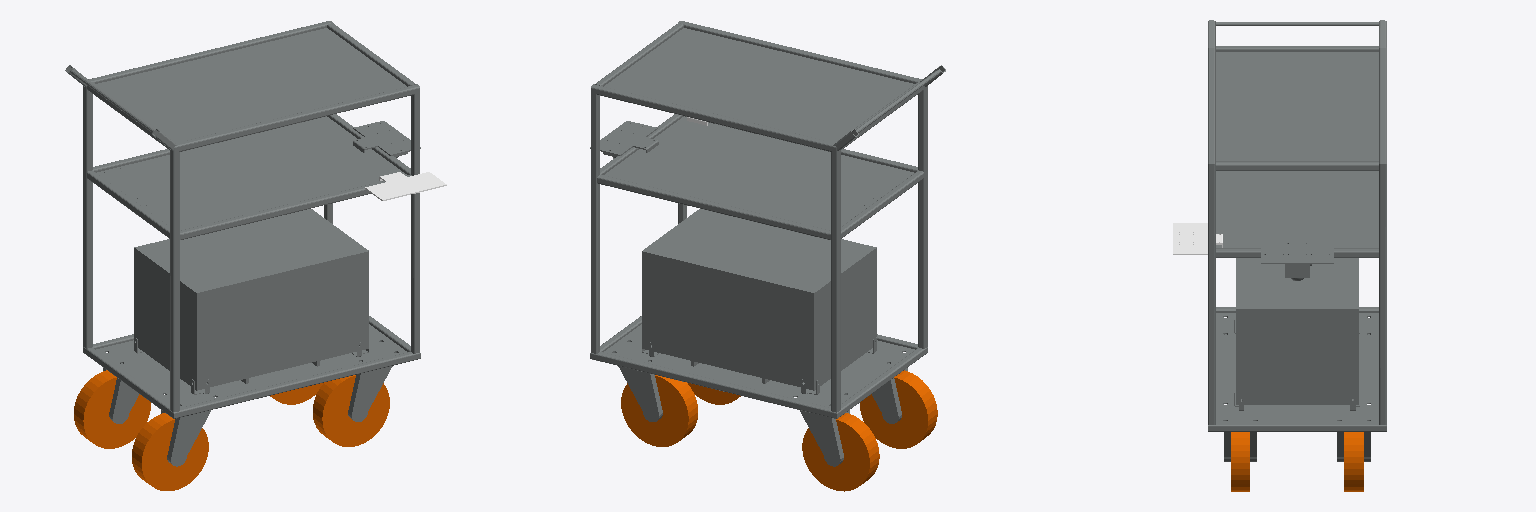
URDF robot description (kart_urdf):
<?xml version="1.0" encoding="utf-8"?>
<!-- This URDF was automatically created by SolidWorks to URDF Exporter! Originally created by [author] ([email redacted]) 
     Commit Version: 1.6.0-4-g7f85cfe  Build Version: 1.6.7995.38578
     For more information, please see http://wiki.ros.org/sw_urdf_exporter -->
<robot
  name="kart_urdf">
  <link
    name="base_link">
    <inertial>
      <origin
        xyz="-0.003553 -8.6975E-09 0.34226"
        rpy="0 0 0" />
      <mass
        value="29.552" />
      <inertia
        ixx="0.46707"
        ixy="-5.3125E-10"
        ixz="2.9316E-05"
        iyy="1.0457"
        iyz="-3.757E-09"
        izz="1.23" />
    </inertial>
    <visual>
      <origin
        xyz="0 0 0"
        rpy="0 0 0" />
      <geometry>
        <mesh
          filename="package://kart_urdf/meshes/base_link.STL" />
      </geometry>
      <material
        name="">
        <color
          rgba="0.52941 0.54902 0.54902 1" />
      </material>
    </visual>
    <collision>
      <origin
        xyz="0 0 0"
        rpy="0 0 0" />
      <geometry>
        <mesh
          filename="package://kart_urdf/meshes/base_link.STL" />
      </geometry>
    </collision>
  </link>
  <link
    name="battery_link">
    <inertial>
      <origin
        xyz="-3.6212E-06 -8.6736E-18 5.312E-06"
        rpy="0 0 0" />
      <mass
        value="350.05" />
      <inertia
        ixx="5.1928"
        ixy="7.3712E-16"
        ixz="-0.00015529"
        iyy="9.7927"
        iyz="2.4861E-16"
        izz="10.574" />
    </inertial>
    <visual>
      <origin
        xyz="0 0 0"
        rpy="0 0 0" />
      <geometry>
        <mesh
          filename="package://kart_urdf/meshes/battery_link.STL" />
      </geometry>
      <material
        name="">
        <color
          rgba="0.52941 0.54902 0.54902 1" />
      </material>
    </visual>
    <collision>
      <origin
        xyz="0 0 0"
        rpy="0 0 0" />
      <geometry>
        <mesh
          filename="package://kart_urdf/meshes/battery_link.STL" />
      </geometry>
    </collision>
  </link>
  <joint
    name="battery"
    type="fixed">
    <origin
      xyz="0 0 0.1565"
      rpy="0 0 0" />
    <parent
      link="base_link" />
    <child
      link="battery_link" />
    <axis
      xyz="0 0 0" />
  </joint>
  <link
    name="pivot_fr_link">
    <inertial>
      <origin
        xyz="-0.0209462809054473 -2.22044604925031E-16 -0.0556733815955309"
        rpy="0 0 0" />
      <mass
        value="4.9241947653983" />
      <inertia
        ixx="0.0145104445261292"
        ixy="-1.45819672606201E-17"
        ixz="-0.00428323224825852"
        iyy="0.0147433430543042"
        iyz="-1.56090649818831E-17"
        izz="0.00926970619031274" />
    </inertial>
    <visual>
      <origin
        xyz="0 0 0"
        rpy="0 0 0" />
      <geometry>
        <mesh
          filename="package://kart_urdf/meshes/pivot_fr_link.STL" />
      </geometry>
      <material
        name="">
        <color
          rgba="0.529411764705882 0.549019607843137 0.549019607843137 1" />
      </material>
    </visual>
    <collision>
      <origin
        xyz="0 0 0"
        rpy="0 0 0" />
      <geometry>
        <mesh
          filename="package://kart_urdf/meshes/pivot_fr_link.STL" />
      </geometry>
    </collision>
  </link>
  <joint
    name="pivot_fr"
    type="continuous">
    <origin
      xyz="0.2675 -0.14775 0"
      rpy="0 0 0" />
    <parent
      link="base_link" />
    <child
      link="pivot_fr_link" />
    <axis
      xyz="0 0 1" />
    <limit 
      effort="100"
      lower="-3.14159"
      upper="3.14159"
      velocity="100" />
    <dynamics
      damping="0.1"
      friction="0.1" />
  </joint>
  <link
    name="wheel_fr_link">
    <inertial>
      <origin
        xyz="-2.7756E-17 0 0"
        rpy="0 0 0" />
      <mass
        value="1.9175" />
      <inertia
        ixx="0.0052108"
        ixy="1.1934E-33"
        ixz="2.4174E-19"
        iyy="0.0052108"
        iyz="1.5911E-17"
        izz="0.0096226" />
    </inertial>
    <visual>
      <origin
        xyz="0 0 0"
        rpy="0 0 0" />
      <geometry>
        <mesh
          filename="package://kart_urdf/meshes/wheel_fr_link.STL" />
      </geometry>
      <material
        name="">
        <color
          rgba="0.9098 0.44314 0.031373 1" />
      </material>
    </visual>
    <collision>
      <origin
        xyz="0 0 0"
        rpy="0 0 0" />
      <geometry>
        <mesh
          filename="package://kart_urdf/meshes/wheel_fr_link.STL" />
      </geometry>
    </collision>
  </link>
  <joint
    name="wheel_fr"
    type="continuous">
    <origin
      xyz="-0.059 0 -0.14065"
      rpy="1.5708 0 0" />
    <parent
      link="pivot_fr_link" />
    <child
      link="wheel_fr_link" />
    <axis
      xyz="0 0 1" />
    <limit 
      effort="100"
      lower="-3.14159"
      upper="3.14159"
      velocity="100" />
    <dynamics
      damping="0.1"
      friction="0.1" />
  </joint>
  <link
    name="pivot_fl_link">
    <inertial>
      <origin
        xyz="-0.0209462809054473 -2.22044604925031E-16 -0.055673381595531"
        rpy="0 0 0" />
      <mass
        value="4.9241947653983" />
      <inertia
        ixx="0.0145104445261292"
        ixy="-1.42240334890659E-17"
        ixz="-0.00428323224825851"
        iyy="0.0147433430543042"
        iyz="-1.75453742864597E-17"
        izz="0.00926970619031273" />
    </inertial>
    <visual>
      <origin
        xyz="0 0 0"
        rpy="0 0 0" />
      <geometry>
        <mesh
          filename="package://kart_urdf/meshes/pivot_fl_link.STL" />
      </geometry>
      <material
        name="">
        <color
          rgba="0.529411764705882 0.549019607843137 0.549019607843137 1" />
      </material>
    </visual>
    <collision>
      <origin
        xyz="0 0 0"
        rpy="0 0 0" />
      <geometry>
        <mesh
          filename="package://kart_urdf/meshes/pivot_fl_link.STL" />
      </geometry>
    </collision>
  </link>
  <joint
    name="pivot_fl"
    type="continuous">
    <origin
      xyz="0.2675 0.14775 0"
      rpy="0 0 0" />
    <parent
      link="base_link" />
    <child
      link="pivot_fl_link" />
    <axis
      xyz="0 0 1" />
      <limit 
      effort="100"
      lower="-3.14159"
      upper="3.14159"
      velocity="100" />
    <dynamics
      damping="0.1"
      friction="0.1" />
  </joint>
  <link
    name="wheel_fl_link">
    <inertial>
      <origin
        xyz="0 0 5.5511E-17"
        rpy="0 0 0" />
      <mass
        value="1.9175" />
      <inertia
        ixx="0.0052108"
        ixy="-1.2342E-34"
        ixz="-1.1097E-18"
        iyy="0.0052108"
        iyz="7.5525E-34"
        izz="0.0096226" />
    </inertial>
    <visual>
      <origin
        xyz="0 0 0"
        rpy="0 0 0" />
      <geometry>
        <mesh
          filename="package://kart_urdf/meshes/wheel_fl_link.STL" />
      </geometry>
      <material
        name="">
        <color
          rgba="0.9098 0.44314 0.031373 1" />
      </material>
    </visual>
    <collision>
      <origin
        xyz="0 0 0"
        rpy="0 0 0" />
      <geometry>
        <mesh
          filename="package://kart_urdf/meshes/wheel_fl_link.STL" />
      </geometry>
    </collision>
  </link>
  <joint
    name="wheel_fl"
    type="continuous">
    <origin
      xyz="-0.059 0 -0.14065"
      rpy="1.5708 0 0" />
    <parent
      link="pivot_fl_link" />
    <child
      link="wheel_fl_link" />
    <axis
      xyz="0 0 1" />
    <limit 
      effort="100"
      lower="-3.14159"
      upper="3.14159"
      velocity="100" />
    <dynamics
      damping="0.1"
      friction="0.1" />
  </joint>
  <link
    name="pivot_br_link">
    <inertial>
      <origin
        xyz="-0.020944 -0.00027865 -0.055673"
        rpy="0 0 0" />
      <mass
        value="4.9242" />
      <inertia
        ixx="0.01451"
        ixy="-3.098E-06"
        ixz="-0.0042829"
        iyy="0.014743"
        iyz="-5.6981E-05"
        izz="0.0092697" />
    </inertial>
    <visual>
      <origin
        xyz="0 0 0"
        rpy="0 0 0" />
      <geometry>
        <mesh
          filename="package://kart_urdf/meshes/pivot_br_link.STL" />
      </geometry>
      <material
        name="">
        <color
          rgba="0.52941 0.54902 0.54902 1" />
      </material>
    </visual>
    <collision>
      <origin
        xyz="0 0 0"
        rpy="0 0 0" />
      <geometry>
        <mesh
          filename="package://kart_urdf/meshes/pivot_br_link.STL" />
      </geometry>
    </collision>
  </link>
  <joint
    name="pivot_br"
    type="continuous">
    <origin
      xyz="-0.2675 -0.14775 0"
      rpy="0 0 0" />
    <parent
      link="base_link" />
    <child
      link="pivot_br_link" />
    <axis
      xyz="0 0 1" />
    <limit 
      effort="100"
      lower="-3.14159"
      upper="3.14159"
      velocity="100" />
    <dynamics
      damping="0.1"
      friction="0.1" />
  </joint>
  <link
    name="wheel_br_link">
    <inertial>
      <origin
        xyz="-5.5511E-17 0 2.7756E-17"
        rpy="0 0 0" />
      <mass
        value="1.9175" />
      <inertia
        ixx="0.0052108"
        ixy="-8.0031E-35"
        ixz="6.0715E-18"
        iyy="0.0052108"
        iyz="5.3797E-34"
        izz="0.0096226" />
    </inertial>
    <visual>
      <origin
        xyz="0 0 0"
        rpy="0 0 0" />
      <geometry>
        <mesh
          filename="package://kart_urdf/meshes/wheel_br_link.STL" />
      </geometry>
      <material
        name="">
        <color
          rgba="0.9098 0.44314 0.031373 1" />
      </material>
    </visual>
    <collision>
      <origin
        xyz="0 0 0"
        rpy="0 0 0" />
      <geometry>
        <mesh
          filename="package://kart_urdf/meshes/wheel_br_link.STL" />
      </geometry>
    </collision>
  </link>
  <joint
    name="wheel_br"
    type="continuous">
    <origin
      xyz="-0.058995 -0.00078489 -0.14065"
      rpy="1.5708 0 0.013304" />
    <parent
      link="pivot_br_link" />
    <child
      link="wheel_br_link" />
    <axis
      xyz="0 0 1" />
    <limit 
      effort="100"
      lower="-3.14159"
      upper="3.14159"
      velocity="100" />
    <dynamics
      damping="0.1"
      friction="0.1" />
  </joint>
  <link
    name="pivot_bl_link">
    <inertial>
      <origin
        xyz="-0.020946 -2.2204E-16 -0.055673"
        rpy="0 0 0" />
      <mass
        value="4.9242" />
      <inertia
        ixx="0.01451"
        ixy="-1.2865E-17"
        ixz="-0.0042832"
        iyy="0.014743"
        iyz="-1.7694E-17"
        izz="0.0092697" />
    </inertial>
    <visual>
      <origin
        xyz="0 0 0"
        rpy="0 0 0" />
      <geometry>
        <mesh
          filename="package://kart_urdf/meshes/pivot_bl_link.STL" />
      </geometry>
      <material
        name="">
        <color
          rgba="0.52941 0.54902 0.54902 1" />
      </material>
    </visual>
    <collision>
      <origin
        xyz="0 0 0"
        rpy="0 0 0" />
      <geometry>
        <mesh
          filename="package://kart_urdf/meshes/pivot_bl_link.STL" />
      </geometry>
    </collision>
  </link>
  <joint
    name="pivot_bl"
    type="continuous">
    <origin
      xyz="-0.2675 0.14775 0"
      rpy="0 0 0" />
    <parent
      link="base_link" />
    <child
      link="pivot_bl_link" />
    <axis
      xyz="0 0 1" />
    <limit 
      effort="100"
      lower="-3.14159"
      upper="3.14159"
      velocity="100" />
    <dynamics
      damping="0.1"
      friction="0.1" />
  </joint>
  <link
    name="wheel_bl_link">
    <inertial>
      <origin
        xyz="-5.5511E-17 1.1102E-16 0"
        rpy="0 0 0" />
      <mass
        value="1.9175" />
      <inertia
        ixx="0.0052108"
        ixy="1.4809E-34"
        ixz="4.5308E-19"
        iyy="0.0052108"
        iyz="1.0672E-35"
        izz="0.0096226" />
    </inertial>
    <visual>
      <origin
        xyz="0 0 0"
        rpy="0 0 0" />
      <geometry>
        <mesh
          filename="package://kart_urdf/meshes/wheel_bl_link.STL" />
      </geometry>
      <material
        name="">
        <color
          rgba="0.9098 0.44314 0.031373 1" />
      </material>
    </visual>
    <collision>
      <origin
        xyz="0 0 0"
        rpy="0 0 0" />
      <geometry>
        <mesh
          filename="package://kart_urdf/meshes/wheel_bl_link.STL" />
      </geometry>
    </collision>
  </link>
  <joint
    name="wheel_bl"
    type="continuous">
    <origin
      xyz="-0.059 0 -0.14065"
      rpy="1.5708 0 0" />
    <parent
      link="pivot_bl_link" />
    <child
      link="wheel_bl_link" />
    <axis
      xyz="0 0 1" />
    <limit 
      effort="100"
      lower="-3.14159"
      upper="3.14159"
      velocity="100" />
    <dynamics
      damping="0.1"
      friction="0.1" />
  </joint>
  <link
    name="plate_f_link">
    <inertial>
      <origin
        xyz="-0.0100345240687573 1.38777878078145E-17 -0.00193808621594616"
        rpy="0 0 0" />
      <mass
        value="0.543664382614068" />
      <inertia
        ixx="0.00142145163783189"
        ixy="-1.63134061598947E-20"
        ixz="-7.51367874610762E-06"
        iyy="0.000644247611460058"
        iyz="-1.71576680945249E-19"
        izz="0.00206311321883257" />
    </inertial>
    <visual>
      <origin
        xyz="0 0 0"
        rpy="0 0 0" />
      <geometry>
        <mesh
          filename="package://kart_urdf/meshes/plate_f_link.STL" />
      </geometry>
      <material
        name="">
        <color
          rgba="0.529411764705882 0.549019607843137 0.549019607843137 1" />
      </material>
    </visual>
    <collision>
      <origin
        xyz="0 0 0"
        rpy="0 0 0" />
      <geometry>
        <mesh
          filename="package://kart_urdf/meshes/plate_f_link.STL" />
      </geometry>
    </collision>
  </link>
  <joint
    name="plate_f"
    type="fixed">
    <origin
      xyz="0.4 0 0.5155"
      rpy="0 0 0" />
    <parent
      link="base_link" />
    <child
      link="plate_f_link" />
    <axis
      xyz="0 0 0" />
  </joint>
  <link
    name="lidar_link">
    <inertial>
      <origin
        xyz="-0.000145659799707485 0 -0.0231960291766649"
        rpy="0 0 0" />
      <mass
        value="1.52618720582253" />
      <inertia
        ixx="0.000810796091870868"
        ixy="-1.7724526389103E-19"
        ixz="-2.11277189620233E-06"
        iyy="0.000818562651118346"
        iyz="1.63926788158313E-19"
        izz="0.000975731523085195" />
    </inertial>
    <visual>
      <origin
        xyz="0 0 0"
        rpy="0 0 0" />
      <geometry>
        <mesh
          filename="package://kart_urdf/meshes/lidar_link.STL" />
      </geometry>
      <material
        name="">
        <color
          rgba="0.529411764705882 0.549019607843137 0.549019607843137 1" />
      </material>
    </visual>
    <collision>
      <origin
        xyz="0 0 0"
        rpy="0 0 0" />
      <geometry>
        <mesh
          filename="package://kart_urdf/meshes/lidar_link.STL" />
      </geometry>
    </collision>
  </link>
  <joint
    name="lidar"
    type="fixed">
    <origin
      xyz="0.01 0 -0.0505"
      rpy="3.1416 0 -1.5708" />
    <parent
      link="plate_f_link" />
    <child
      link="lidar_link" />
    <axis
      xyz="0 0 0" />
  </joint>
  <link
    name="plate_r_link">
    <inertial>
      <origin
        xyz="0 0 0"
        rpy="0 0 0" />
      <mass
        value="0" />
      <inertia
        ixx="0"
        ixy="0"
        ixz="0"
        iyy="0"
        iyz="0"
        izz="0" />
    </inertial>
    <visual>
      <origin
        xyz="0 0 0"
        rpy="0 0 0" />
      <geometry>
        <mesh
          filename="package://kart_urdf/meshes/plate_r_link.STL" />
      </geometry>
      <material
        name="">
        <color
          rgba="1 1 1 1" />
      </material>
    </visual>
    <collision>
      <origin
        xyz="0 0 0"
        rpy="0 0 0" />
      <geometry>
        <mesh
          filename="package://kart_urdf/meshes/plate_r_link.STL" />
      </geometry>
    </collision>
  </link>
  <joint
    name="plate_r"
    type="fixed">
    <origin
      xyz="0.295 -0.277745098039219 0.515995553214055"
      rpy="0 0 0" />
    <parent
      link="base_link" />
    <child
      link="plate_r_link" />
    <axis
      xyz="0 0 0" />
  </joint>
</robot>

--- What the picture shows (computed from the rendered views, not written in the file) ---
3 views of the same robot in one strip: view 1: azimuth 30°, elevation 25°; view 2: azimuth 150°, elevation 25°; view 3: azimuth 270°, elevation 25° (orthographic).
Robot: kart_urdf — 13 links, 12 joints (8 continuous, 4 fixed); root link base_link; default pose: every joint at zero.
Links seen in each view (by area): view 1: base_link, battery_link, wheel_br_link, wheel_bl_link, wheel_fr_link, plate_r_link, plate_f_link, pivot_br_link, pivot_fr_link, pivot_bl_link, wheel_fl_link; view 2: base_link, battery_link, wheel_bl_link, wheel_br_link, wheel_fl_link, plate_f_link, pivot_bl_link, pivot_fl_link, pivot_br_link, wheel_fr_link; view 3: base_link, battery_link, plate_f_link, wheel_fl_link, plate_r_link, wheel_fr_link.
Link boxes in pixels (x1,y1,x2,y2): base_link: (65, 21, 420, 418); battery_link: (134, 209, 368, 390); wheel_br_link: (132, 413, 208, 490); wheel_bl_link: (74, 370, 150, 448); wheel_fr_link: (313, 375, 389, 446); plate_r_link: (365, 172, 446, 200); plate_f_link: (353, 121, 420, 155); pivot_br_link: (161, 410, 210, 466); pivot_fr_link: (348, 361, 392, 421); pivot_bl_link: (103, 363, 138, 423); wheel_fl_link: (270, 383, 322, 404); base_link: (590, 21, 945, 418); battery_link: (642, 209, 876, 390); wheel_bl_link: (802, 413, 879, 491); wheel_br_link: (860, 370, 937, 448); wheel_fl_link: (621, 375, 697, 446); plate_f_link: (590, 121, 658, 155); pivot_bl_link: (800, 410, 849, 466); pivot_fl_link: (618, 361, 662, 421); pivot_br_link: (872, 363, 907, 423); wheel_fr_link: (688, 383, 740, 404); base_link: (1208, 20, 1386, 431); battery_link: (1236, 258, 1358, 404); plate_f_link: (1261, 242, 1333, 263); wheel_fl_link: (1344, 432, 1363, 491); plate_r_link: (1173, 223, 1222, 254); wheel_fr_link: (1231, 432, 1249, 491).
Bounding box of the posed robot: 0.8718 × 0.5555 × 1.06 m (x, y, z).
Meshes: 13 distinct files referenced, 13 mesh visuals loaded (13 binary STL).